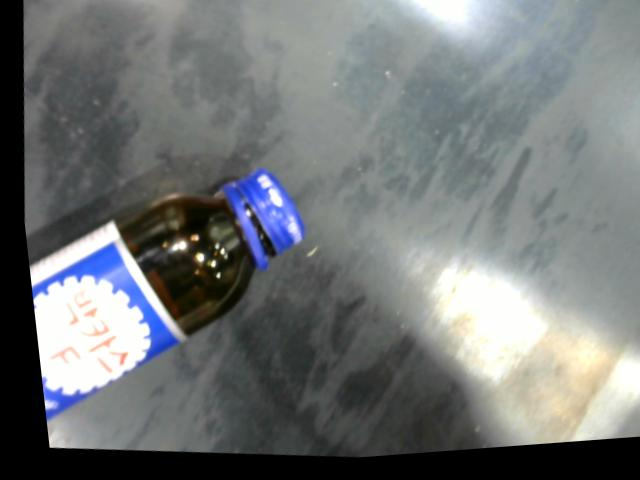glass: (23, 169, 301, 422)
